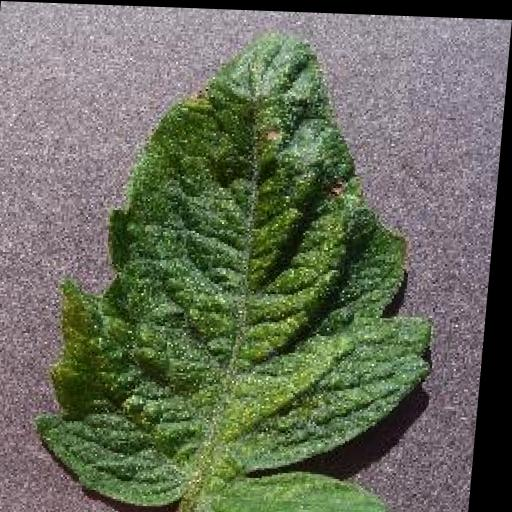Spider Mites: (34, 28, 460, 512)
